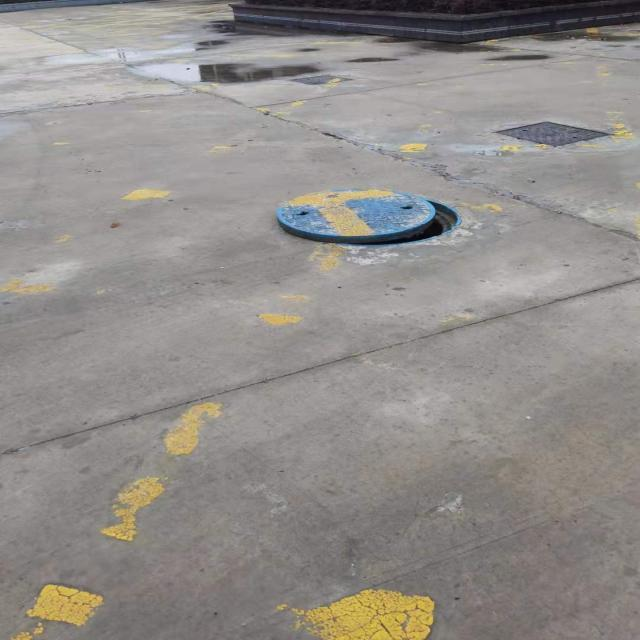Faulty: (278, 191, 462, 246)
